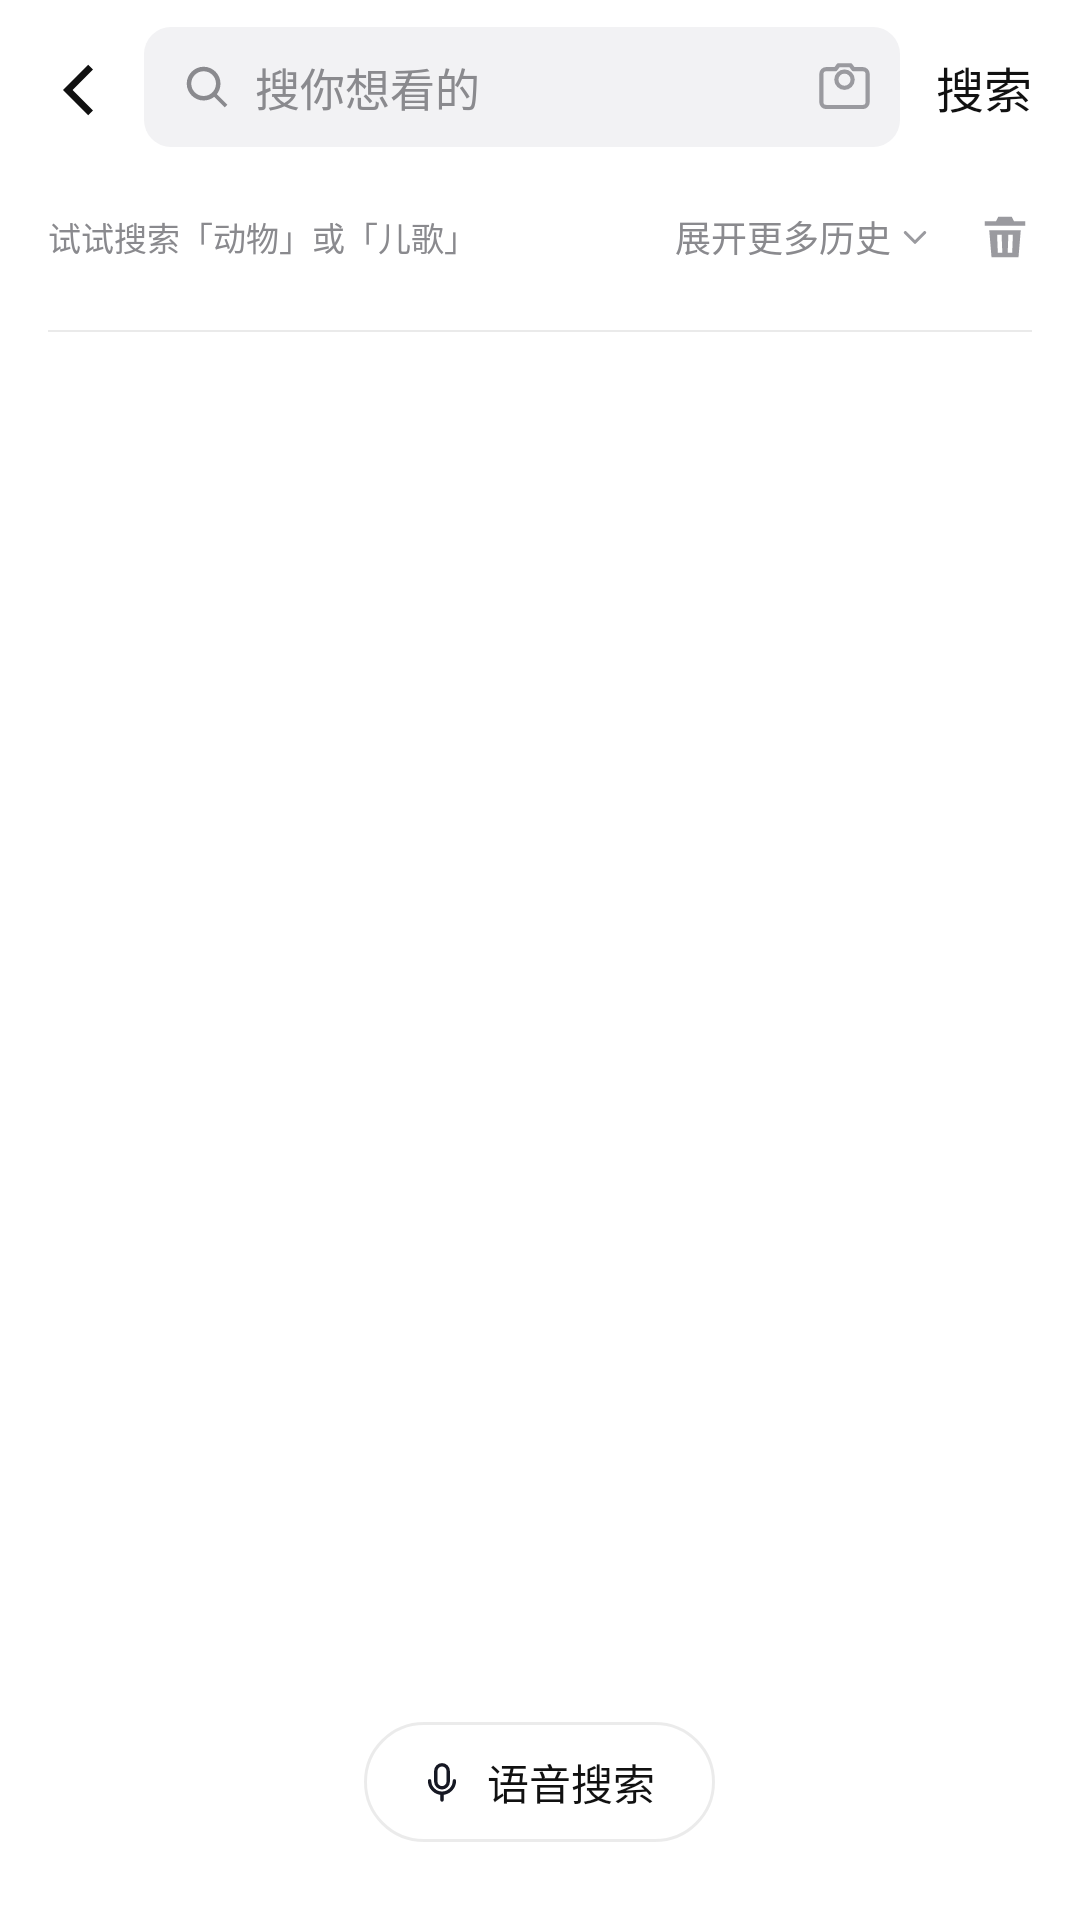

Named icons in this screenshot (1080 x 1920) and their centers, (x,y):
mic: (442,1782)
search: (206,86)
返回: (78,90)
